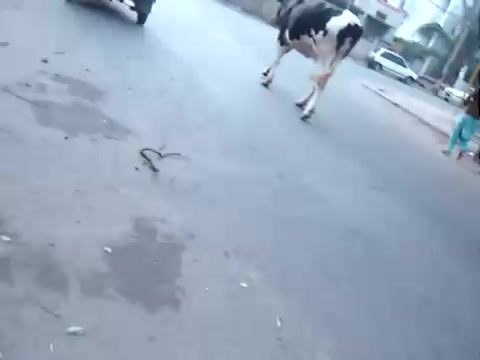cow: (262, 2, 364, 123)
